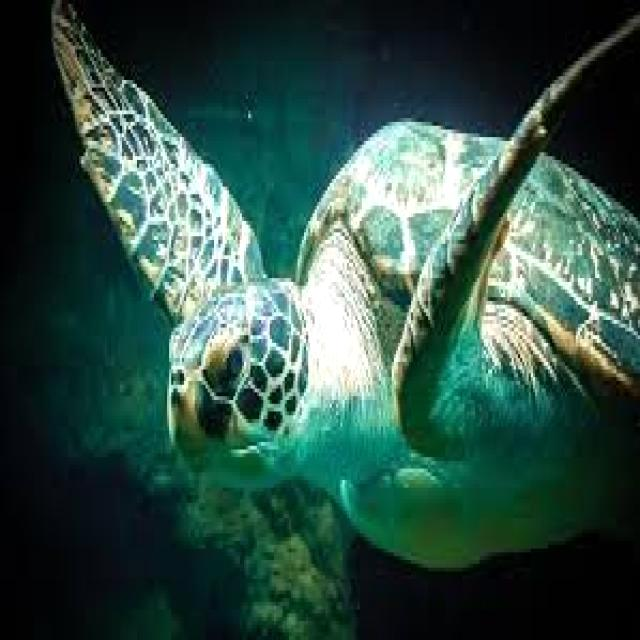Sea turtle: (36, 0, 638, 610)
